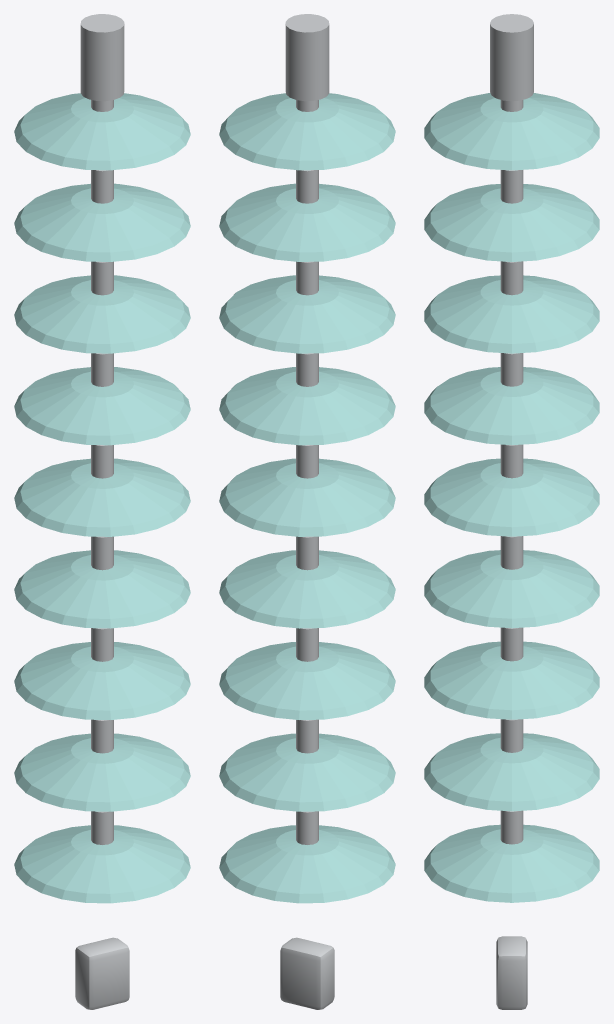
Rendered from insulator.glb.
The picture shows the model from 3 angles, left to right: view 1: azimuth 30°, elevation 25°; view 2: azimuth 150°, elevation 25°; view 3: azimuth 270°, elevation 25°; orthographic projection.
Parts seen in each view (by area): view 1: InsulatorString; view 2: InsulatorString; view 3: InsulatorString.
Boxes of the visible parts, left/top/right/bottom form: InsulatorString: left=14, top=14, right=190, bottom=1009; InsulatorString: left=219, top=14, right=395, bottom=1009; InsulatorString: left=424, top=14, right=599, bottom=1009.
Size of the model in its own units: 0.2799 by 1.71 by 0.2772.
